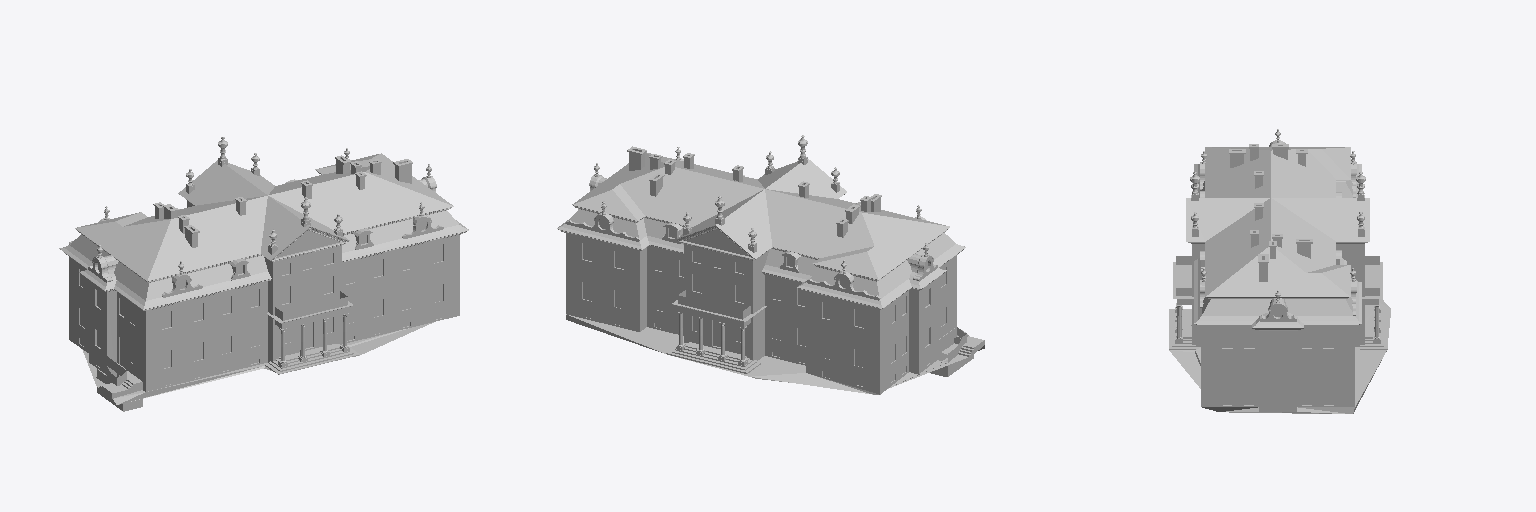
The model's file is metropolitan_palace.obj.
3 renders of one model, left to right at view 1: azimuth 30°, elevation 25°; view 2: azimuth 150°, elevation 25°; view 3: azimuth 270°, elevation 25°, orthographic.
Parts seen in each view (by area): view 1: Metropolitan_Palace.001; view 2: Metropolitan_Palace.001; view 3: Metropolitan_Palace.001.
Part boxes in pixels (bbox=[...]): Metropolitan_Palace.001: bbox=[59, 137, 468, 411]; Metropolitan_Palace.001: bbox=[557, 135, 984, 394]; Metropolitan_Palace.001: bbox=[1169, 129, 1390, 413].
Size of the model in its own units: 6.19 by 2.88 by 3.32.